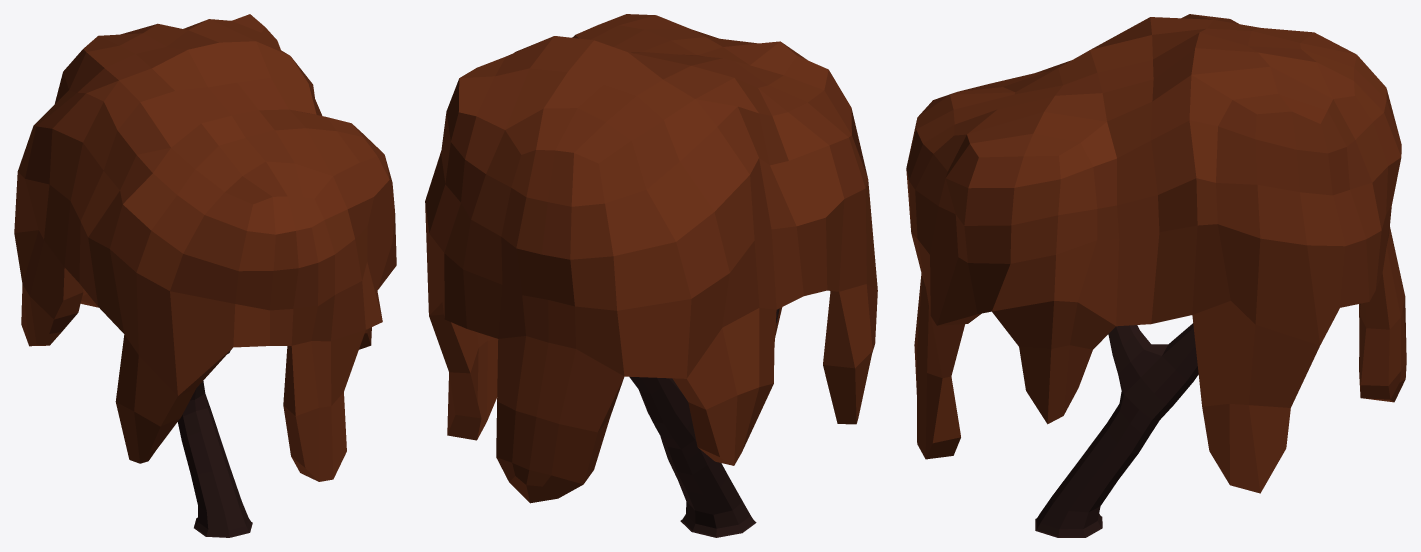
Rendered from Willow_Autumn_4.obj.
3 renders of one model, left to right at view 1: azimuth 30°, elevation 25°; view 2: azimuth 150°, elevation 25°; view 3: azimuth 270°, elevation 25°, orthographic. The views are drawn at different scales.
Visible parts, largest first — view 1: Willow_Autumn_4_Cube.085; view 2: Willow_Autumn_4_Cube.085; view 3: Willow_Autumn_4_Cube.085.
Boxes of the visible parts, box(x1,y1,x2,y2) form: Willow_Autumn_4_Cube.085: box(14, 14, 396, 537); Willow_Autumn_4_Cube.085: box(425, 14, 877, 537); Willow_Autumn_4_Cube.085: box(906, 14, 1406, 537).
Bounding box in the file's own units: 2.19 × 3.39 × 3.04.
